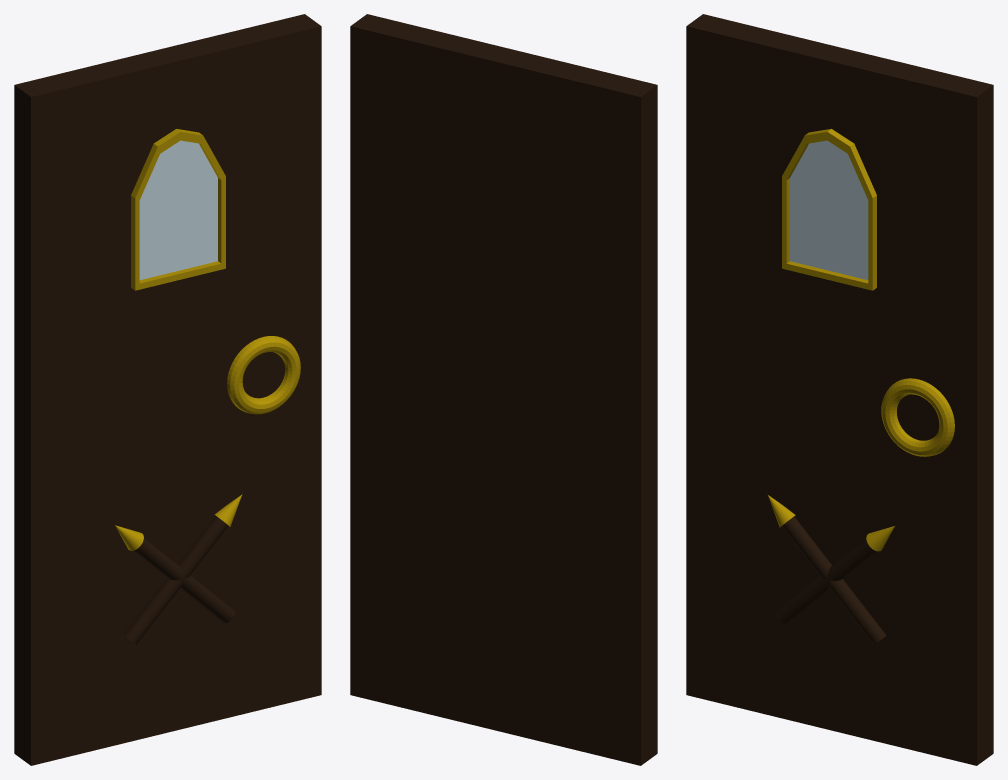
Rendered from casinoDoorL.fbx.
3 views of the same model, side by side, from view 1: azimuth 30°, elevation 25°; view 2: azimuth 150°, elevation 25°; view 3: azimuth 330°, elevation 25° (orthographic).
Parts seen in each view (by area): view 1: Cube; view 2: Cube; view 3: Cube.
Boxes of the visible parts, <box> form: Cube: <box>14,14,321,765</box>; Cube: <box>350,14,657,765</box>; Cube: <box>686,14,993,765</box>.
Bounding box in the file's own units: 100 × 220 × 13.92.
